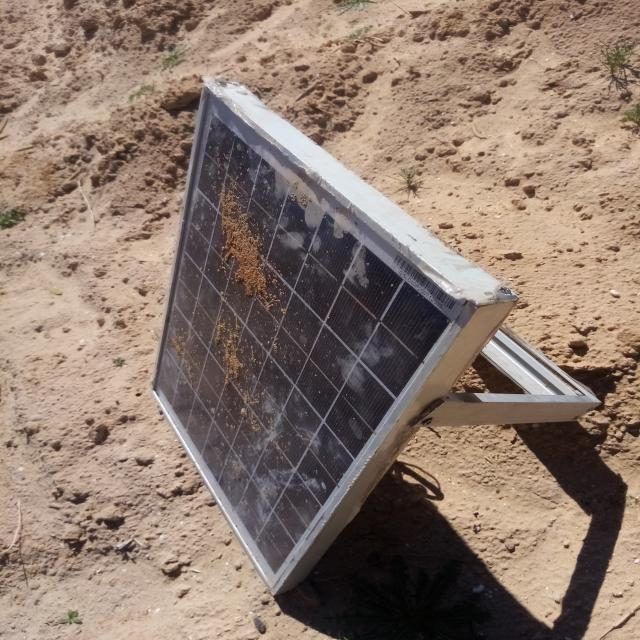faulty: (152, 86, 470, 591)
